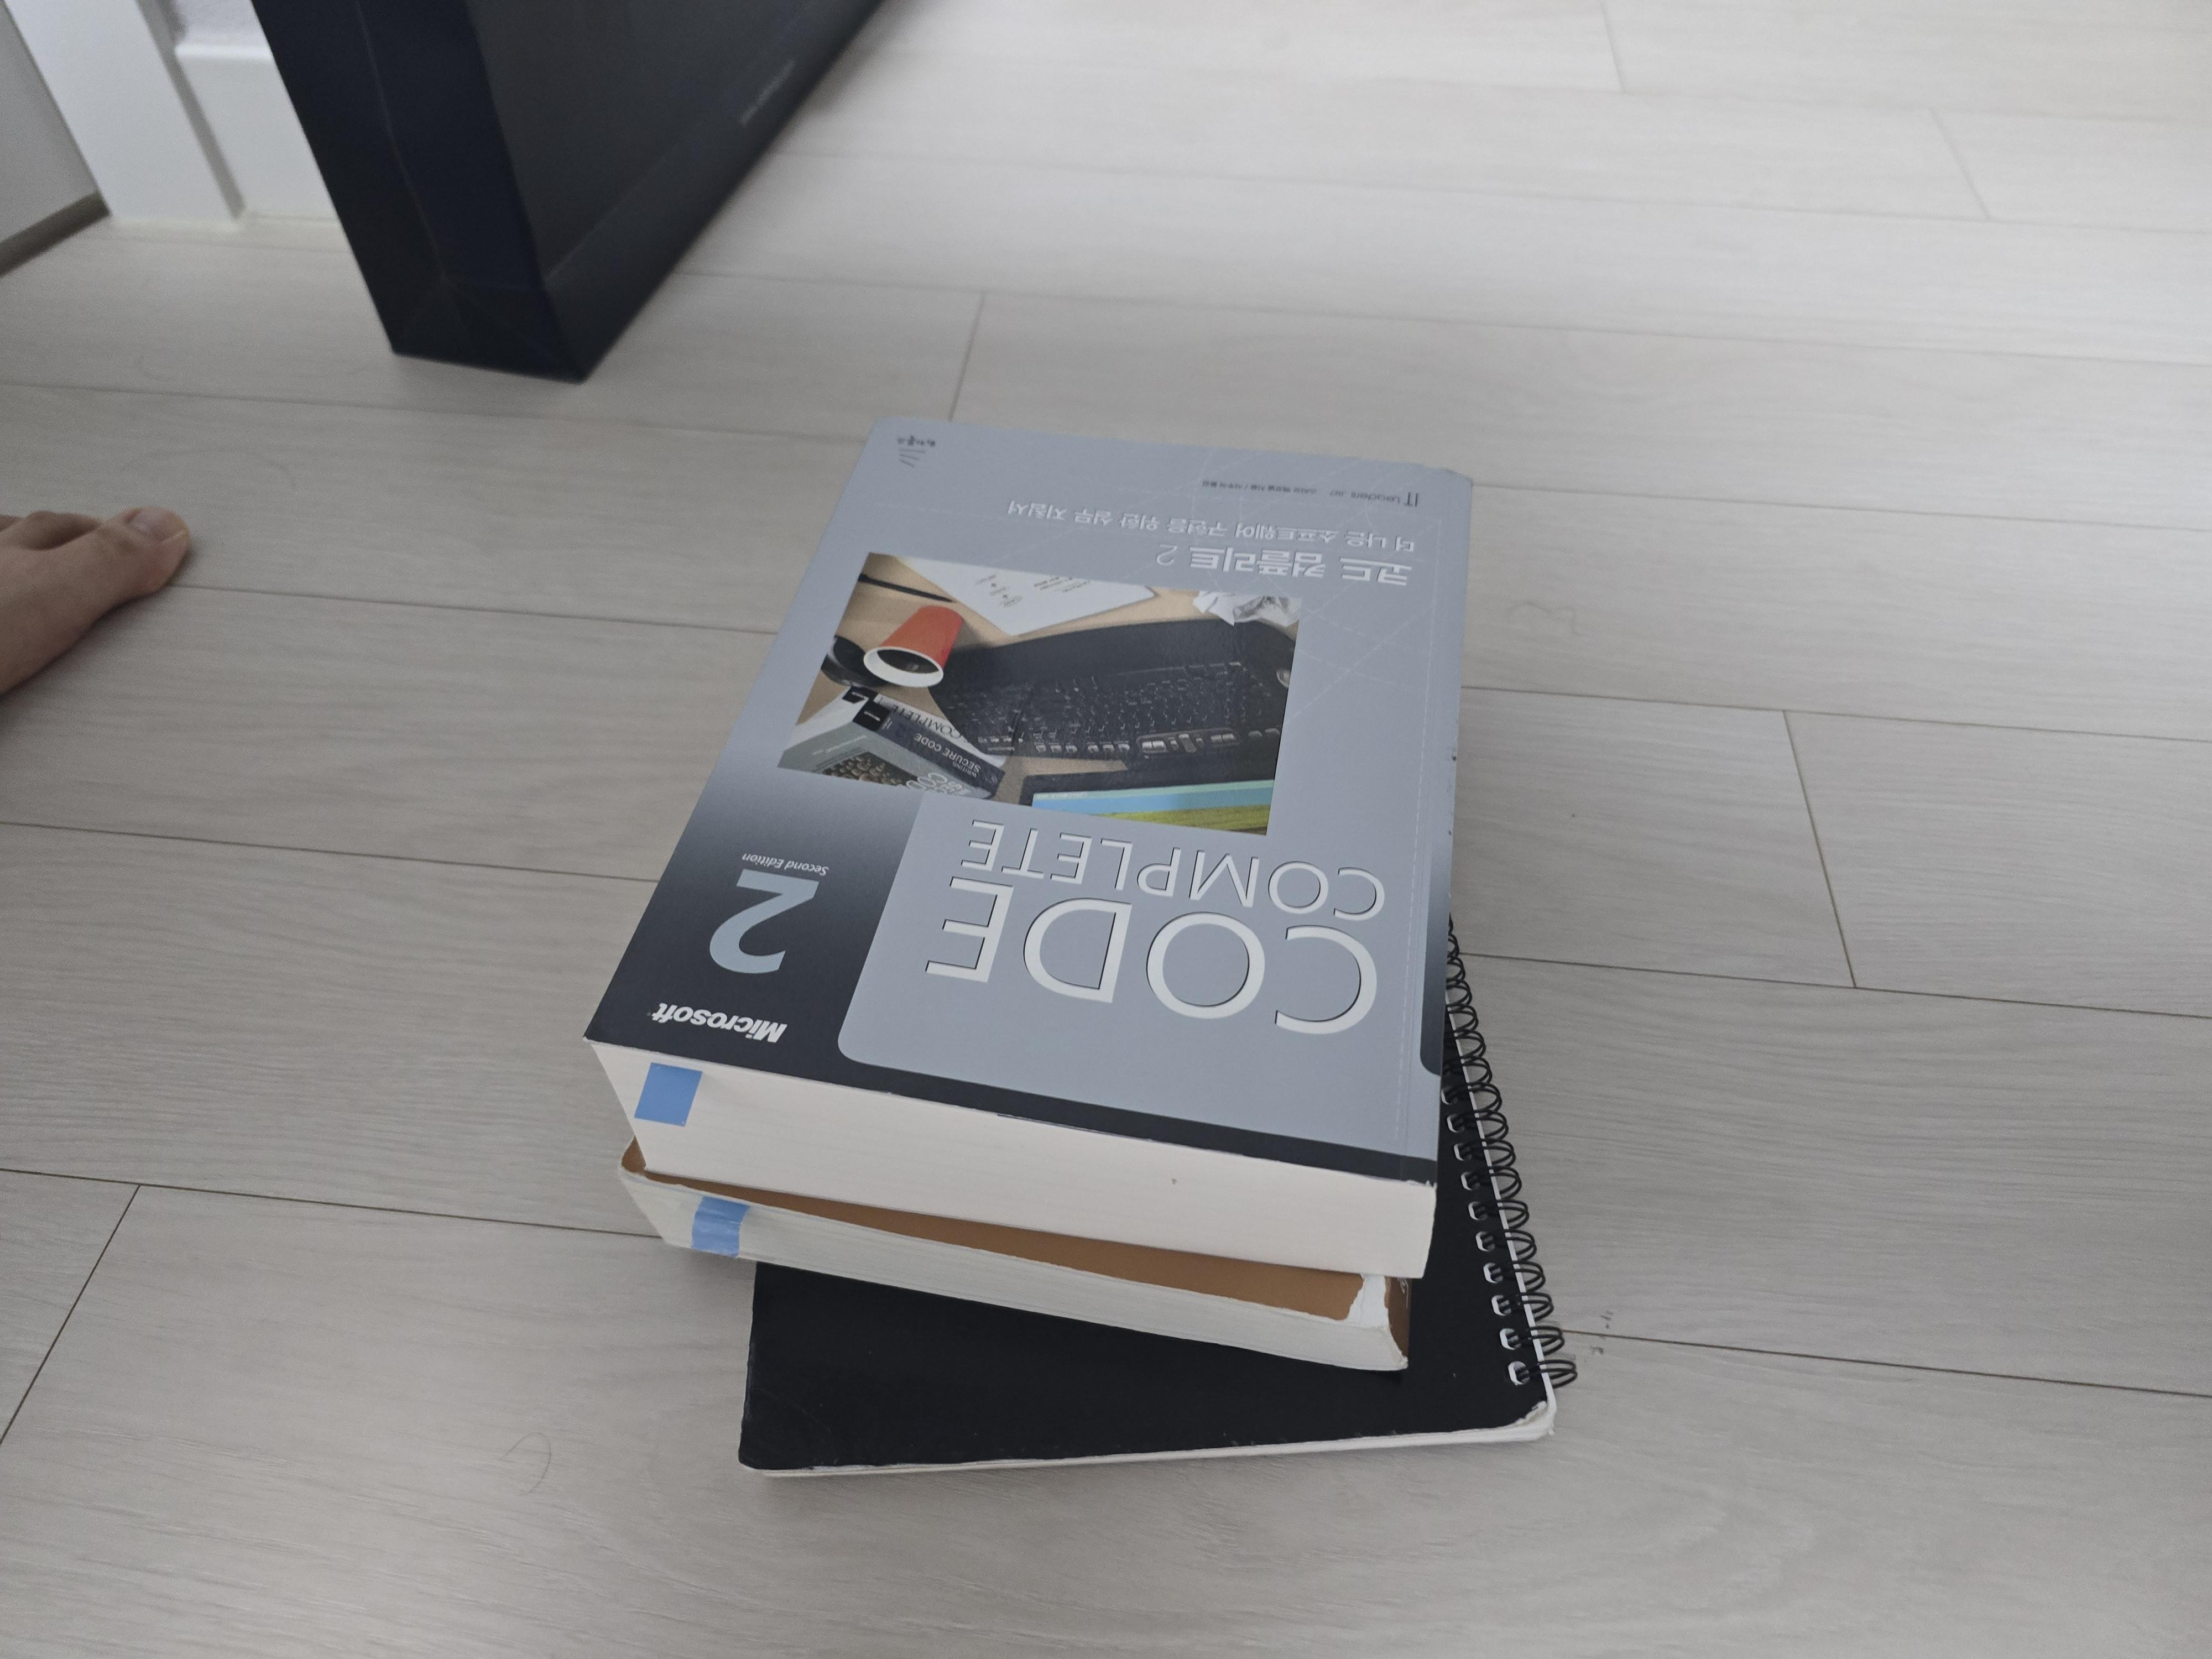book: (582, 411, 1474, 1377)
